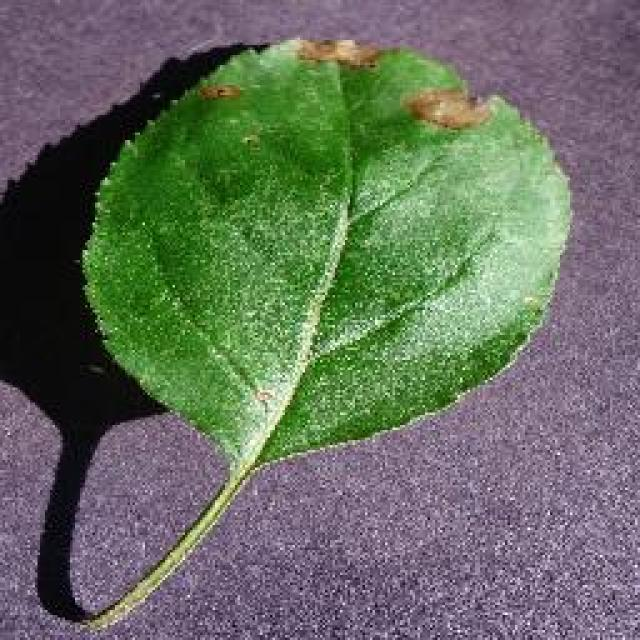apple healthy: (0, 32, 575, 630)
